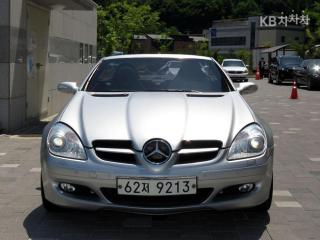1: (174, 180, 182, 195)
2: (131, 181, 141, 194), (165, 181, 174, 195)
3: (182, 180, 191, 194)
6: (123, 180, 133, 194)
9: (156, 181, 164, 194)
plate: (108, 172, 205, 202)
저: (141, 181, 151, 195)
